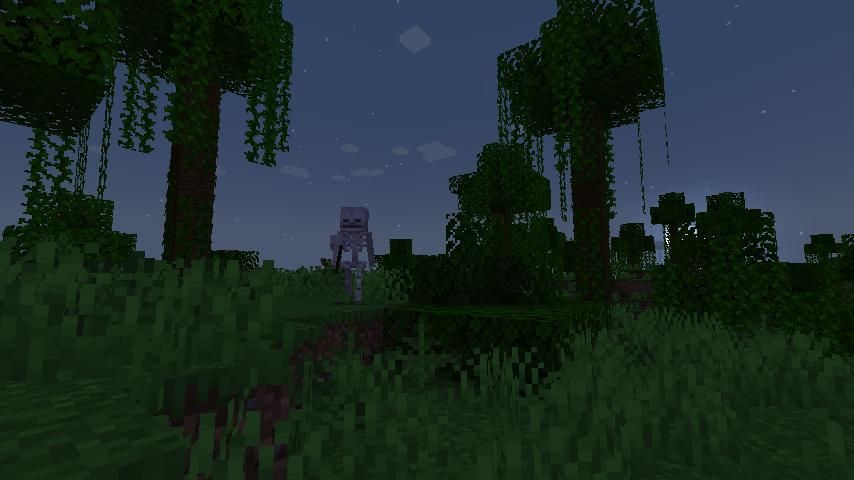skeleton: (329, 204, 378, 300)
